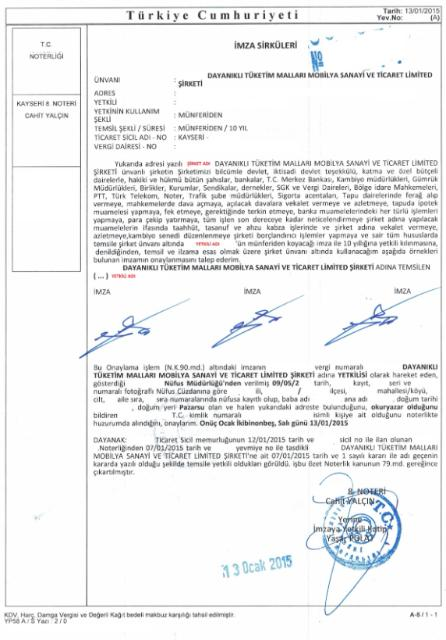stamp: (317, 492, 403, 572)
